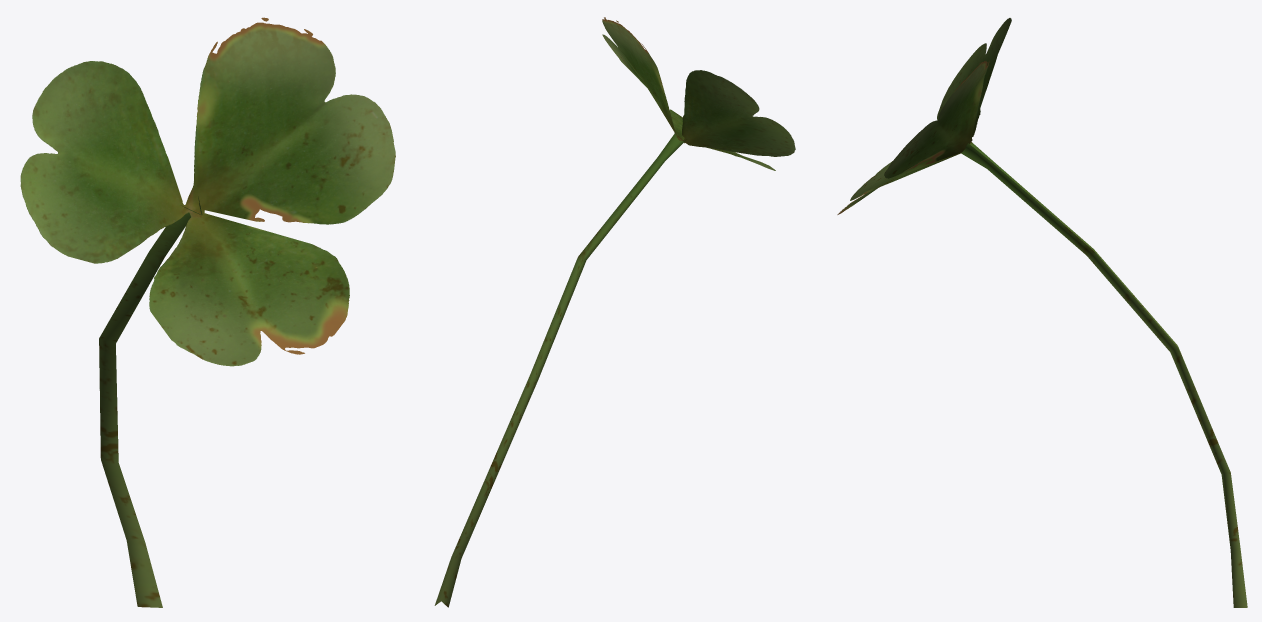
File: Sorrel_H.fbx
3 renders of one model, left to right at view 1: azimuth 30°, elevation 25°; view 2: azimuth 150°, elevation 25°; view 3: azimuth 270°, elevation 25°, orthographic. The views are drawn at different scales.
Parts seen in each view (by area): view 1: Sorrel_H; view 2: Sorrel_H; view 3: Sorrel_H.
Part boxes in pixels (bbox=[...]): Sorrel_H: bbox=[20, 17, 395, 607]; Sorrel_H: bbox=[434, 17, 795, 607]; Sorrel_H: bbox=[837, 18, 1247, 607].
Bounding box in the file's own units: 0.0557 × 0.12 × 0.0868.
Materials: 1 (1 with a texture image).
